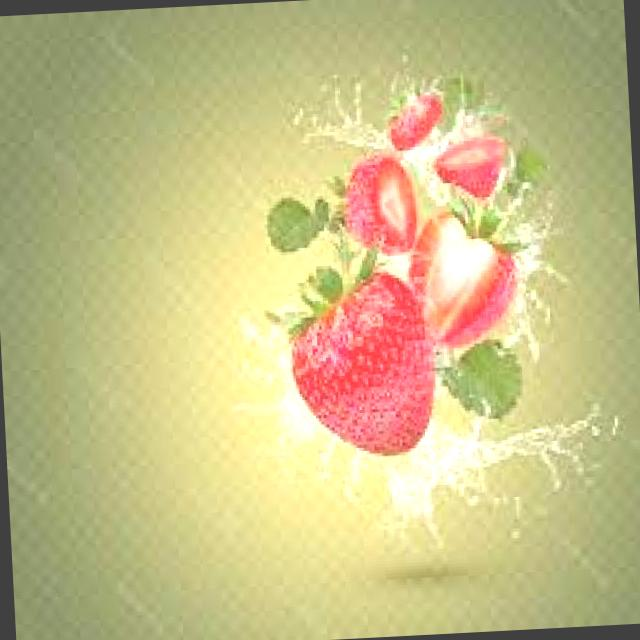Strawberry: (284, 260, 442, 462), (408, 205, 524, 350), (341, 150, 421, 258), (432, 132, 514, 206), (386, 88, 448, 151)
